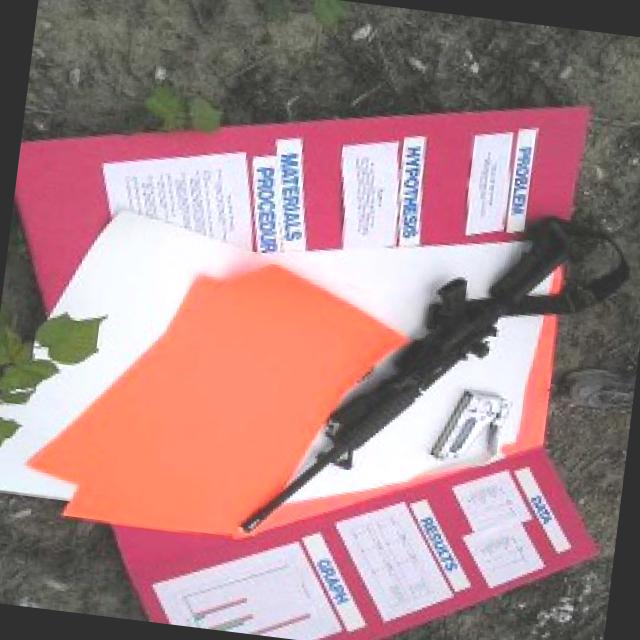long weapon: (245, 168, 631, 578)
